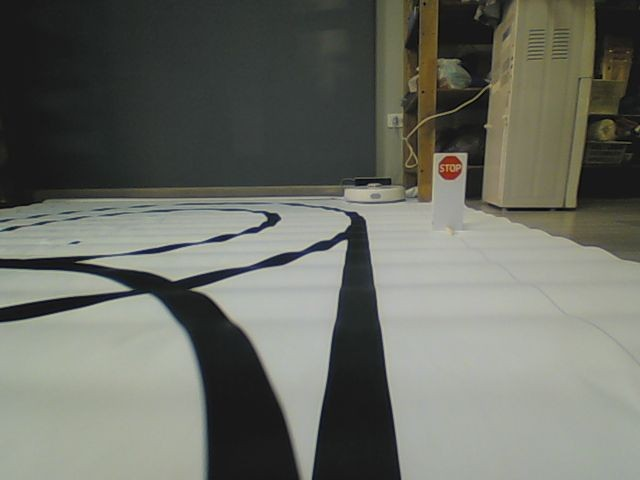Stop: (437, 155, 464, 182)
